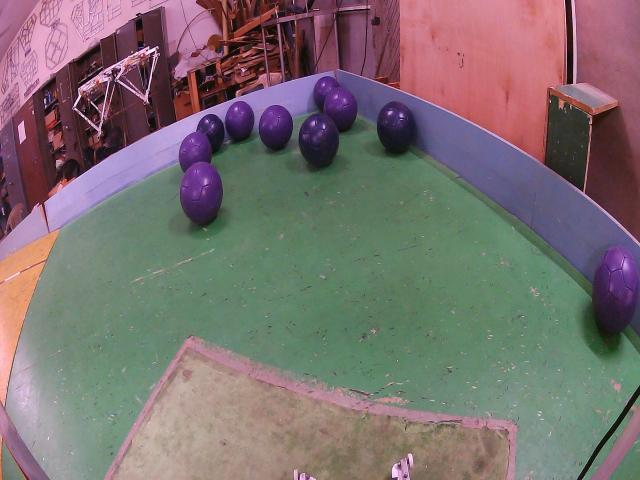jambhalya: (592, 247, 640, 335), (180, 162, 222, 225), (324, 87, 358, 132), (259, 105, 292, 150), (179, 132, 212, 171), (225, 102, 255, 140), (314, 77, 339, 110)
kaalyya: (299, 113, 339, 167), (376, 102, 415, 153), (196, 113, 225, 152)
